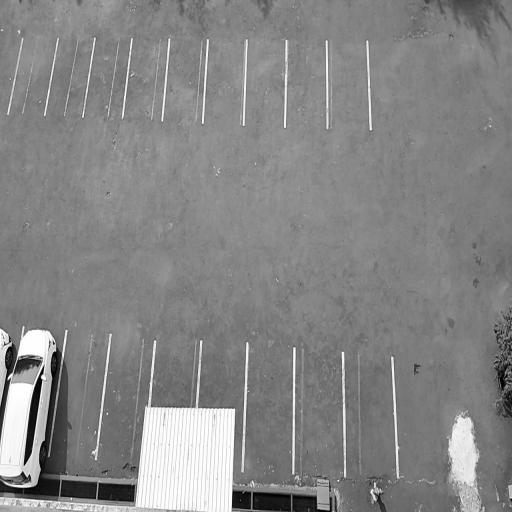Car: (0, 322, 67, 502), (0, 321, 18, 420)
Space Available: (49, 327, 111, 458), (343, 350, 399, 478), (95, 331, 151, 459), (243, 342, 294, 473), (293, 348, 345, 476), (8, 36, 59, 115), (45, 36, 95, 116), (83, 38, 132, 119), (327, 40, 372, 128), (123, 36, 169, 120), (203, 38, 247, 125), (244, 39, 287, 126), (285, 40, 328, 127), (163, 38, 208, 120), (149, 337, 201, 406), (197, 340, 247, 409), (0, 38, 23, 114)
